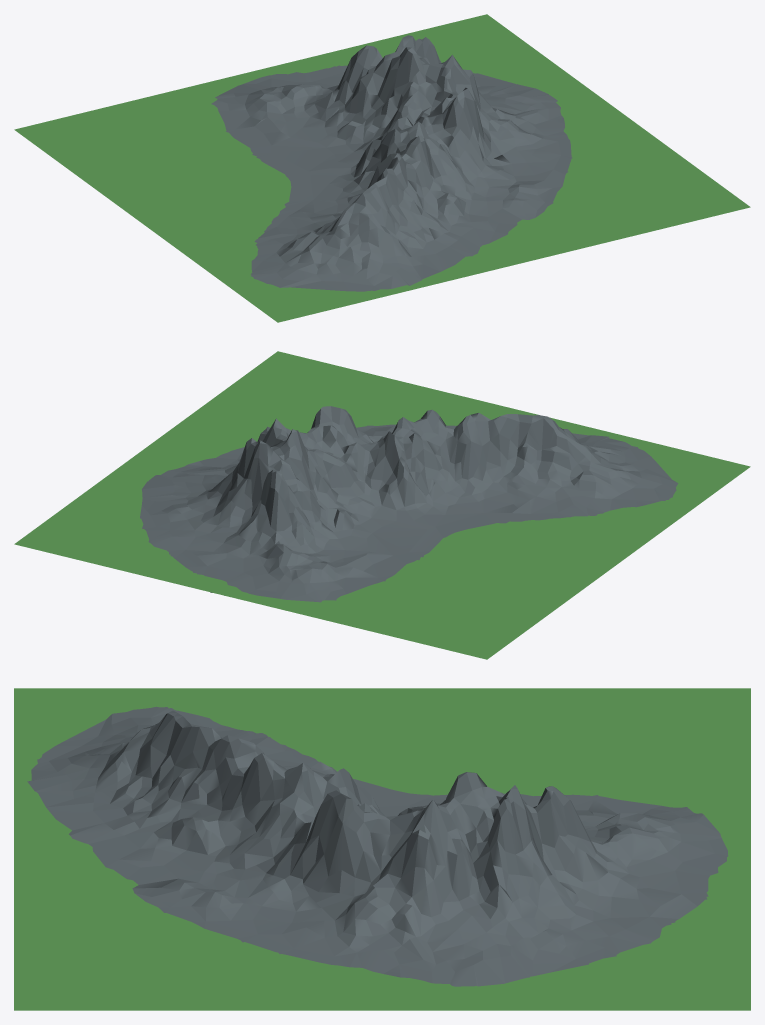
Rendered from Landscape_02.fbx.
The picture shows the model from 3 angles, top to bottom: view 1: azimuth 30°, elevation 25°; view 2: azimuth 150°, elevation 25°; view 3: azimuth 270°, elevation 25°; orthographic projection. The views are drawn at different scales.
Visible parts, largest first — view 1: Landscape_02; view 2: Landscape_02; view 3: Landscape_02.
Part boxes in pixels (x1=…): Landscape_02: x1=14, y1=14, x2=750, y2=322; Landscape_02: x1=14, y1=351, x2=750, y2=659; Landscape_02: x1=14, y1=688, x2=750, y2=1010.
Bounding box in the file's own units: 15171 × 2626 × 14653.
1 material, 1 textured.
